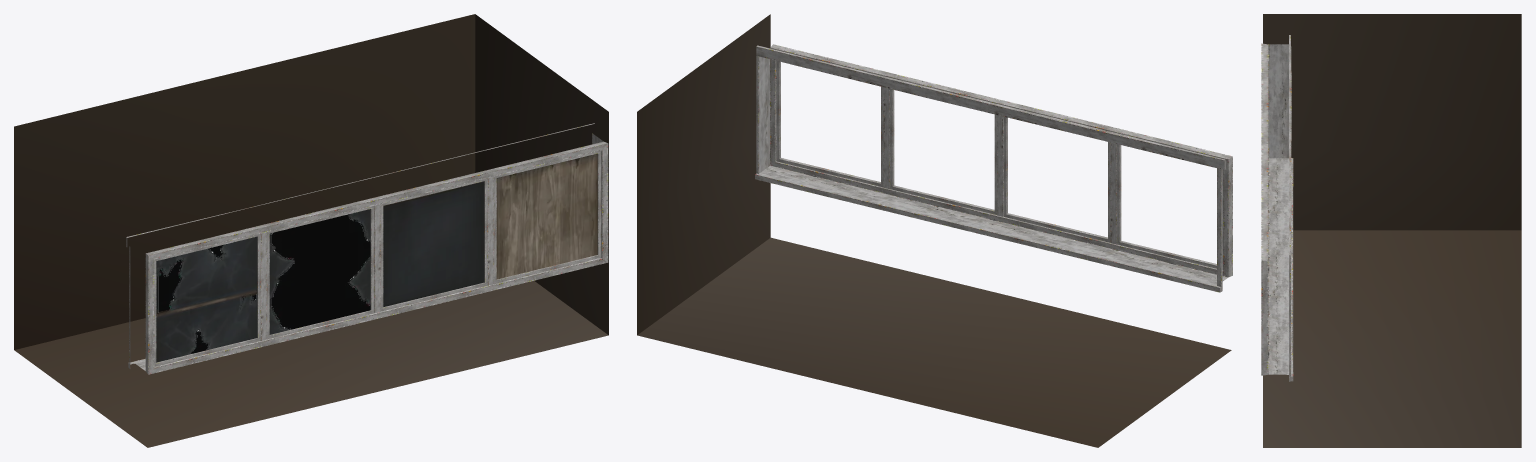
The model's file is window_regular_flat_opaque_d.glb.
The picture shows the model from 3 angles, left to right: view 1: azimuth 30°, elevation 25°; view 2: azimuth 150°, elevation 25°; view 3: azimuth 270°, elevation 25°; orthographic projection. The views are drawn at different scales.
Parts seen in each view (by area): view 1: window_regular_flat_opaque_d (×2); view 2: window_regular_flat_opaque_d (×2); view 3: window_regular_flat_opaque_d (×2).
Boxes of the visible parts, x1,y1,x2,y2 form: window_regular_flat_opaque_d (×2): (14,14,608,447); window_regular_flat_opaque_d (×2): (637,14,1232,447); window_regular_flat_opaque_d (×2): (1261,14,1521,447).
Size of the model in its own units: 6.44 by 2.91 by 3.17.
Materials: 2 (2 with a texture image).
